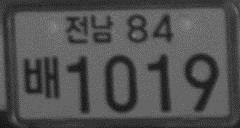0: (102, 53, 138, 113)
1: (65, 54, 91, 114), (146, 52, 172, 112)
4: (151, 13, 174, 43)
8: (126, 12, 149, 43)
9: (183, 51, 220, 113)
배: (22, 54, 61, 99)
전남_H: (65, 13, 114, 44)
